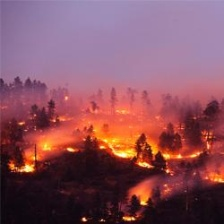fire: (9, 100, 217, 180)
